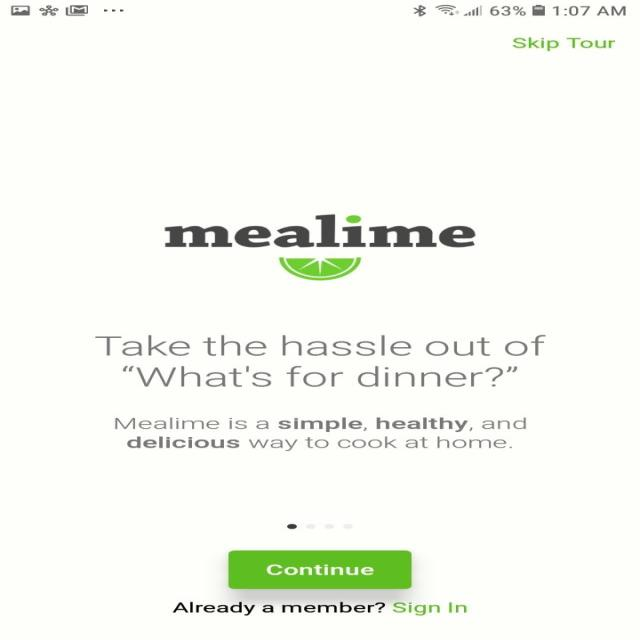Image: (164, 213, 476, 248), (278, 257, 361, 281)
Text: (94, 334, 546, 388), (114, 417, 526, 451), (172, 601, 466, 615), (512, 37, 615, 51)
TextButton: (228, 550, 412, 589)
